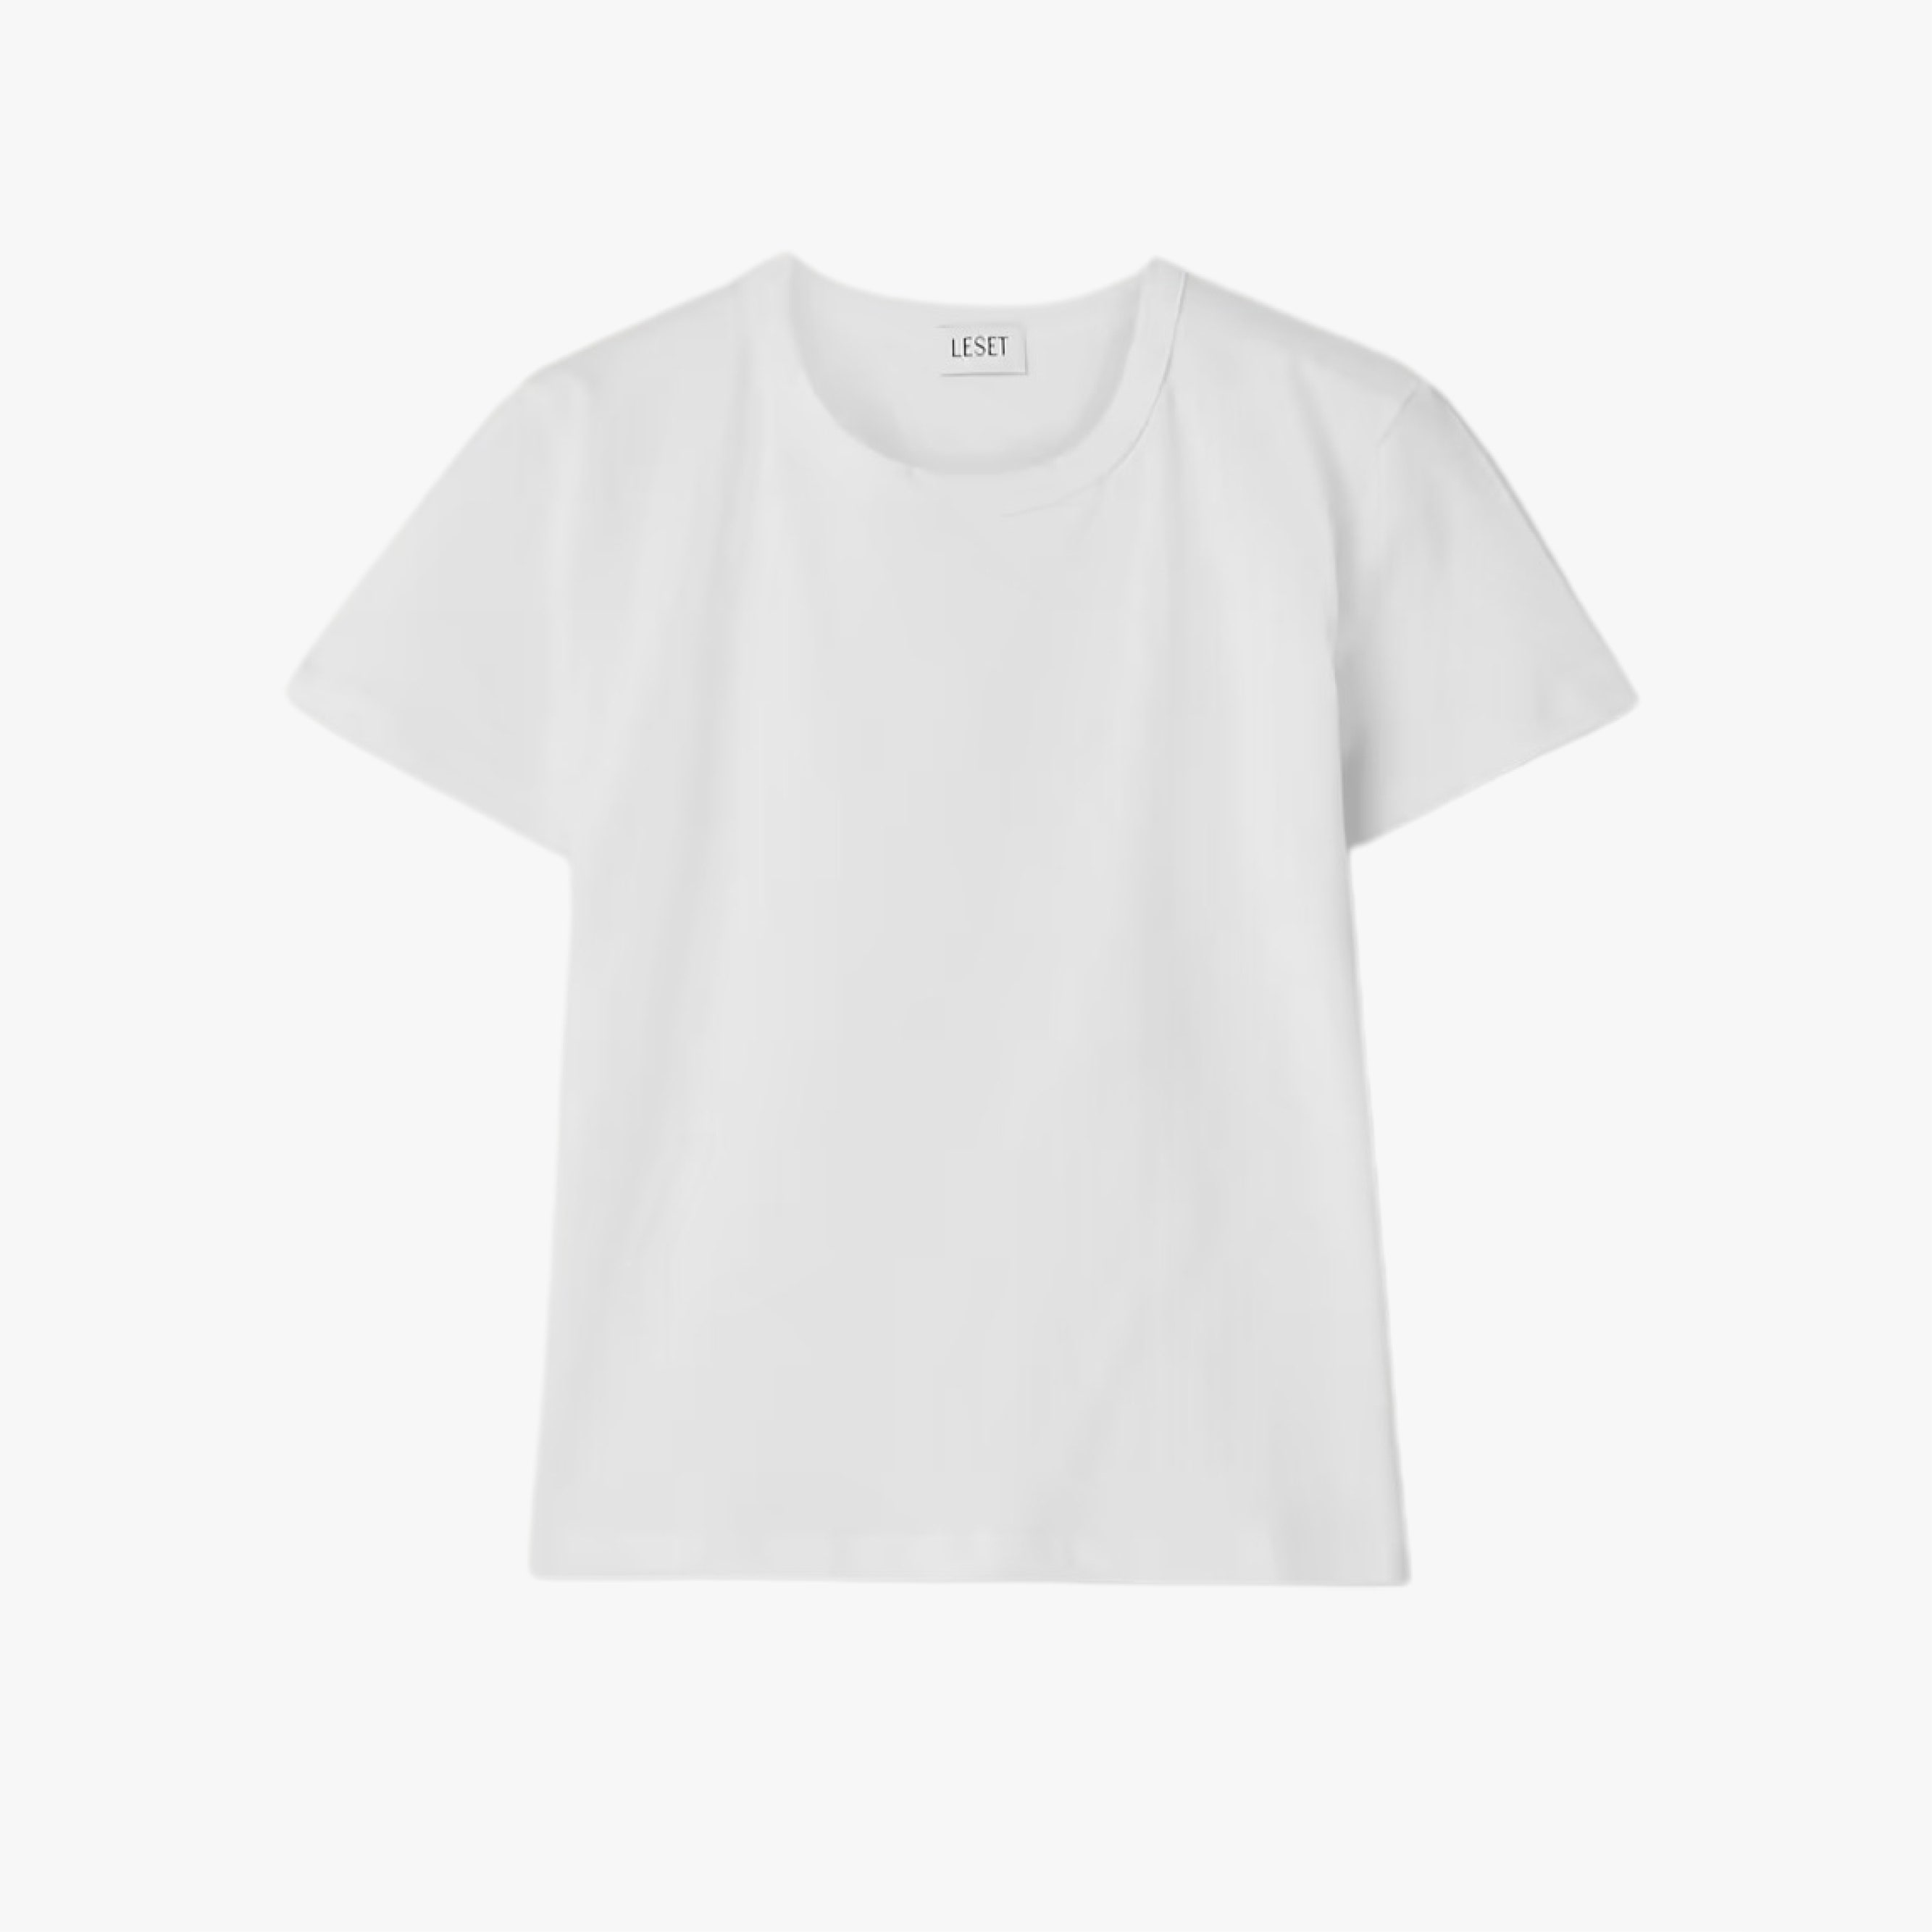round-necked tshirt: (299, 234, 1684, 1585)
